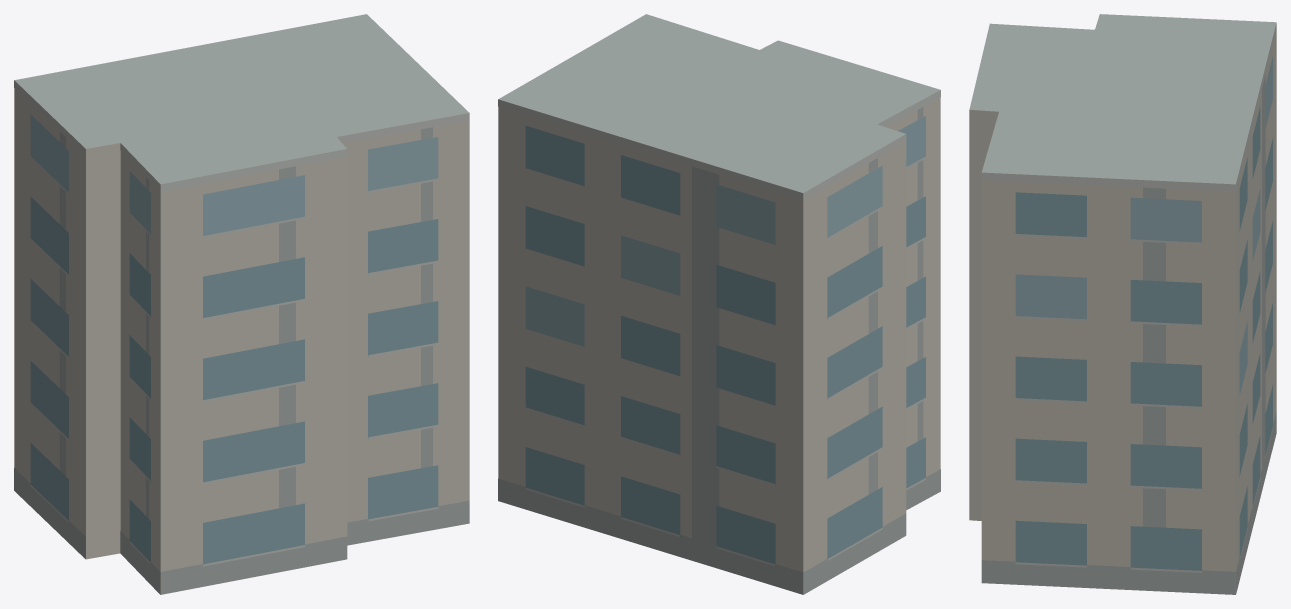
Rendered from survey-upis-32872932.glb.
3 views of the same model, side by side, from view 1: azimuth 30°, elevation 25°; view 2: azimuth 150°, elevation 25°; view 3: azimuth 270°, elevation 25° (orthographic). The views are drawn at different scales.
Visible parts, largest first — view 1: survey-upis-32872932.tmp; view 2: survey-upis-32872932.tmp; view 3: survey-upis-32872932.tmp.
Part boxes in pixels (x1,y1,x2,y2): survey-upis-32872932.tmp: (14, 14, 469, 594); survey-upis-32872932.tmp: (498, 14, 940, 594); survey-upis-32872932.tmp: (969, 14, 1276, 594).
Size of the model in its own units: 11.67 by 13.1 by 8.9.
